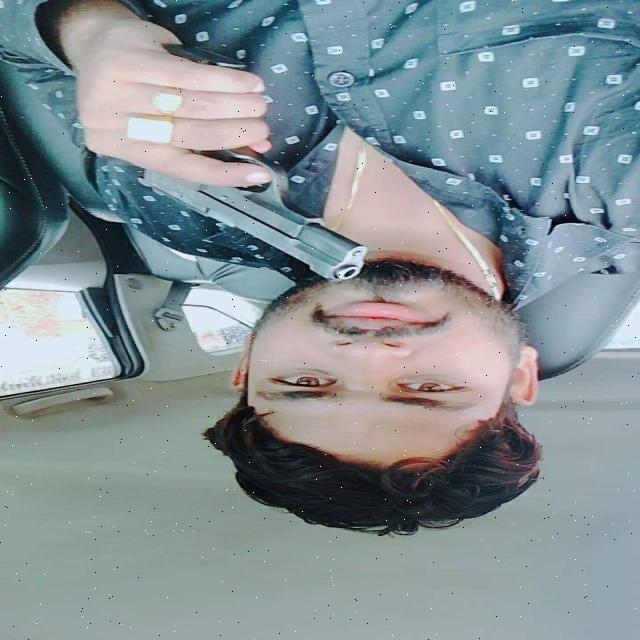gun: (133, 135, 373, 281)
